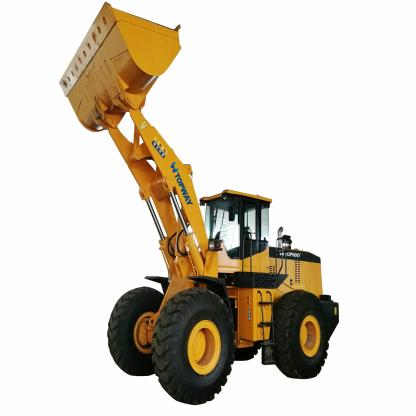bull_dozer/loader/grader: (34, 10, 348, 410)
